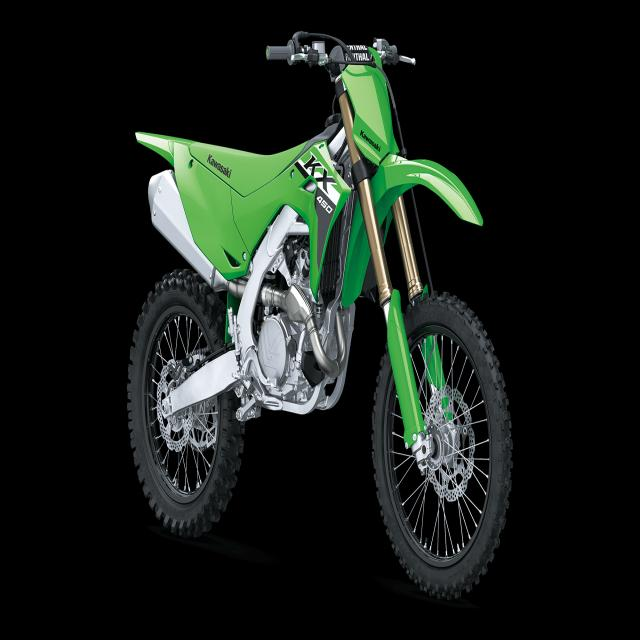Motorcycle: (127, 30, 512, 596)
